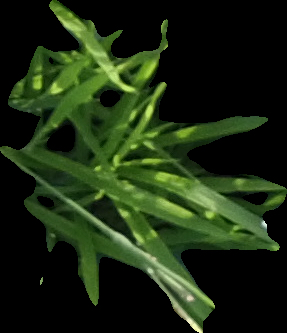grass: (1, 1, 285, 332)
